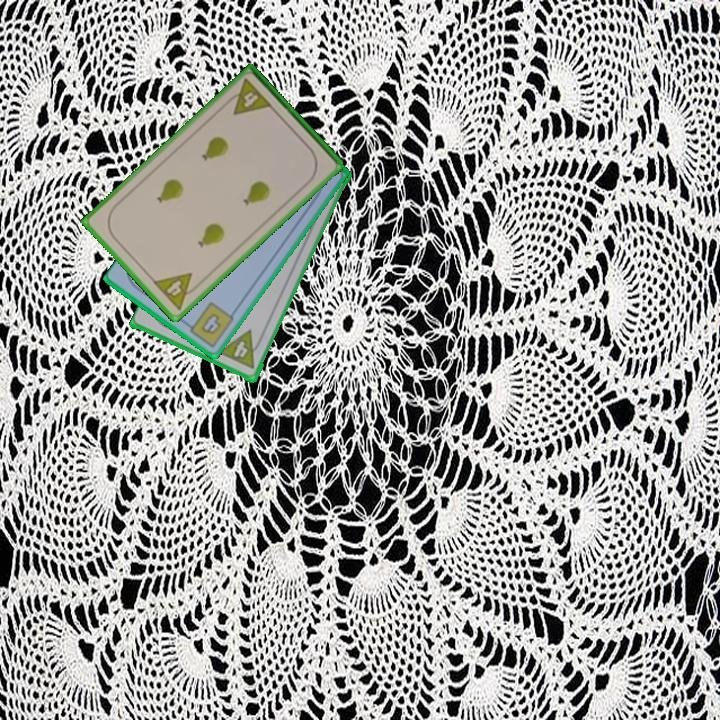4b: (182, 298, 237, 351)
4p: (149, 269, 204, 313), (222, 75, 275, 118), (216, 327, 266, 372)
